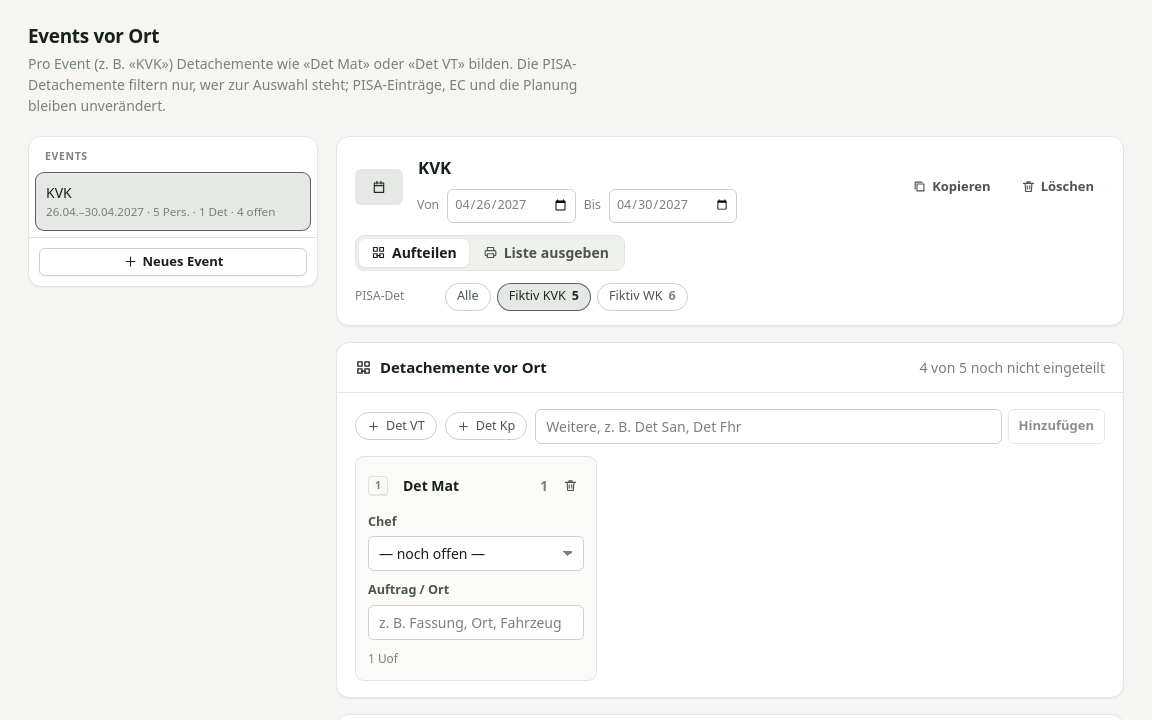
Test case: on-site page › copies an event with its detachements and deletes events
The width and height of the screenshot is (1152, 720).
Click the button "Kopieren" at (951, 186), box top-left (901, 172), bottom-right (1002, 200)
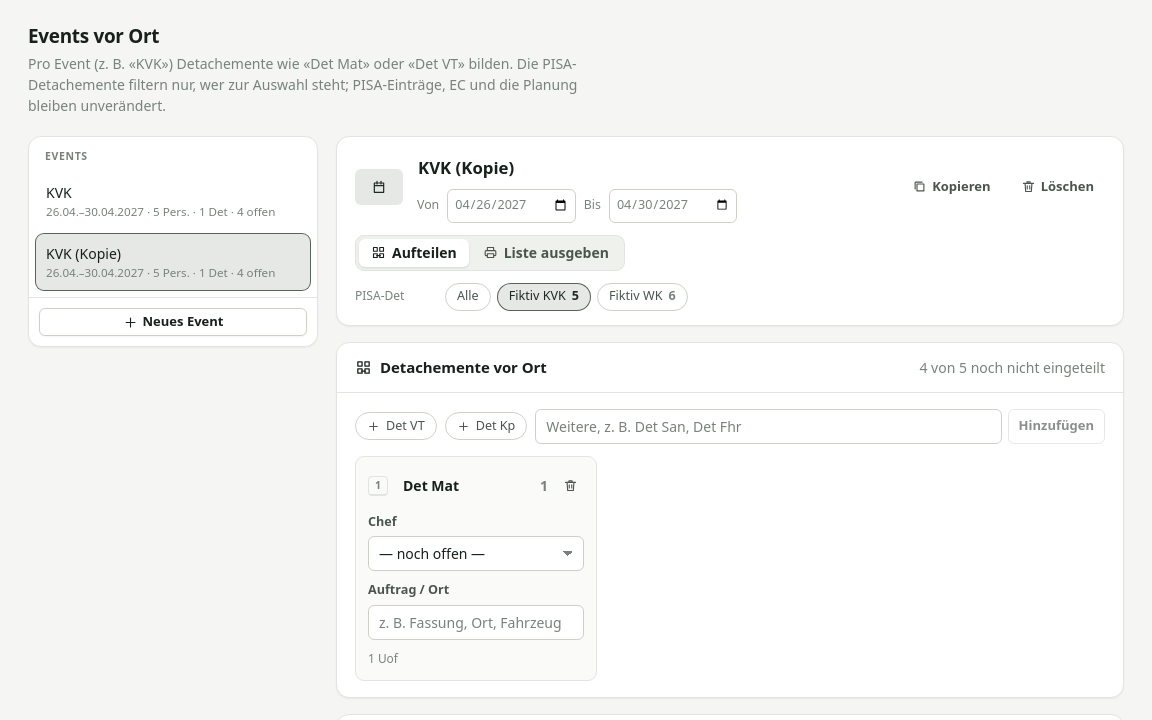
Now the field named "Name des Events" holds "KVK (Kopie)", box top-left (411, 150), bottom-right (881, 184)
Click the button "Löschen" at (1057, 186), box top-left (1010, 172), bottom-right (1105, 200)
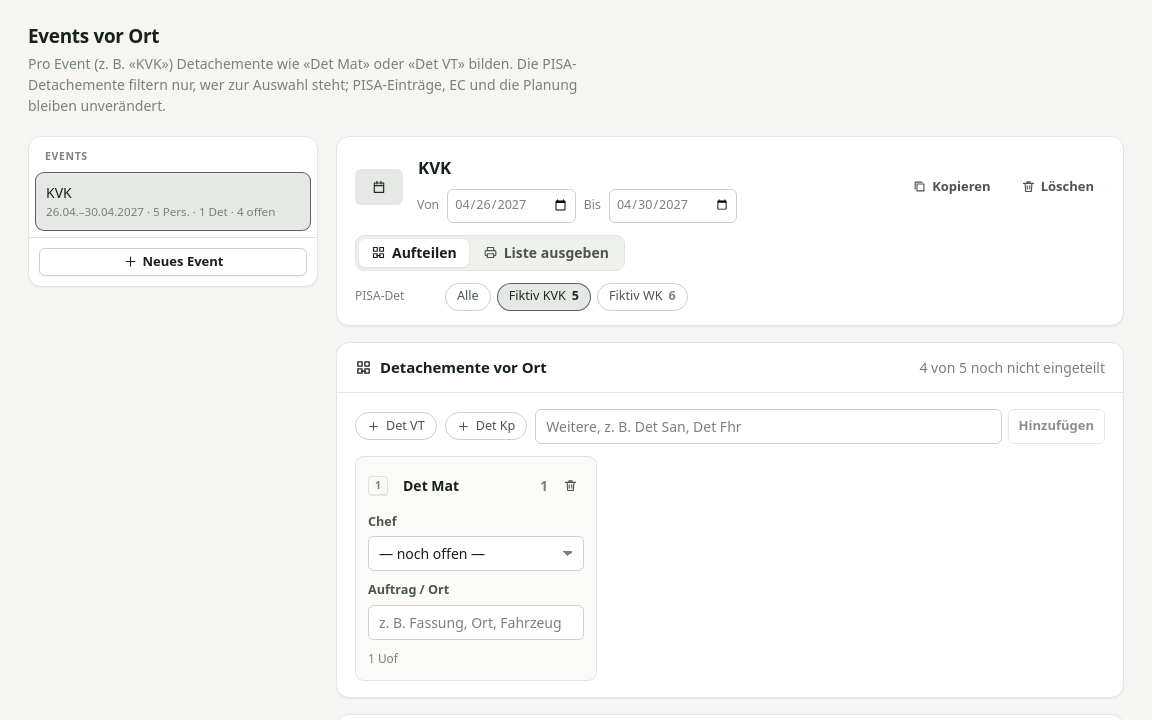
Now the field named "Name des Events" holds "KVK", box top-left (411, 150), bottom-right (881, 184)
